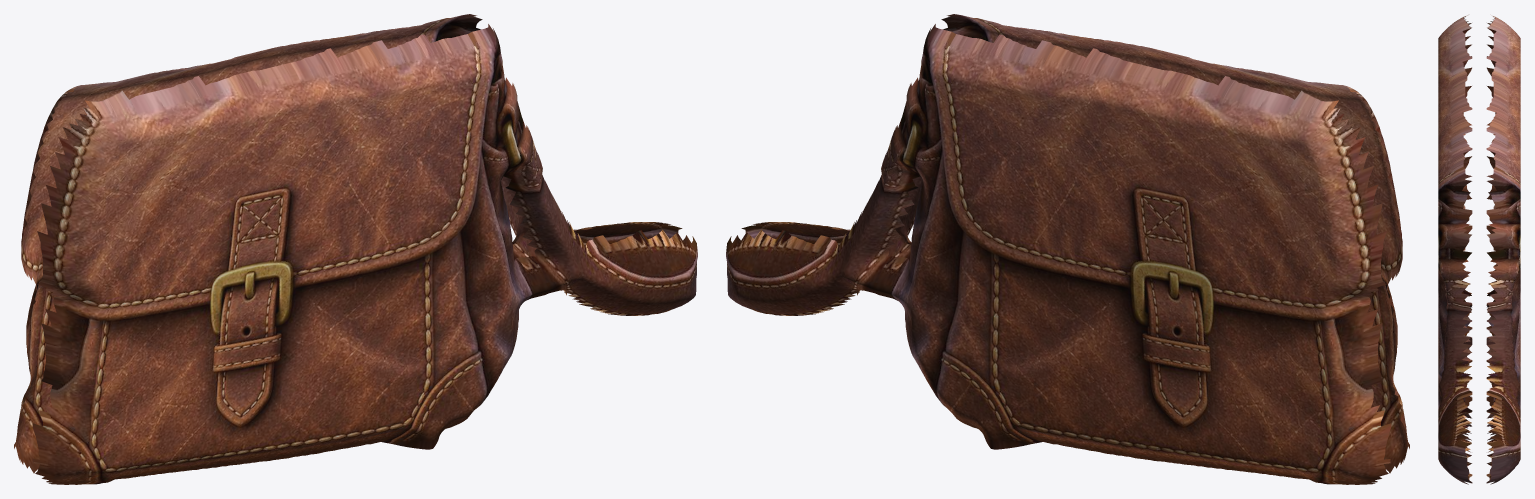
The model's file is v4-container-satchel-closed.glb.
3 renders of one model, left to right at view 1: azimuth 30°, elevation 25°; view 2: azimuth 150°, elevation 25°; view 3: azimuth 270°, elevation 25°, orthographic. The views are drawn at different scales.
Parts seen in each view (by area): view 1: v4-container-satchel-closed; view 2: v4-container-satchel-closed; view 3: v4-container-satchel-closed.
Boxes of the visible parts, bbox=[...] form: v4-container-satchel-closed: bbox=[14, 14, 697, 484]; v4-container-satchel-closed: bbox=[726, 14, 1409, 484]; v4-container-satchel-closed: bbox=[1438, 15, 1520, 484].
Size of the model in its own units: 0.5759 by 0.3426 by 0.084.
1 material, 1 textured.
